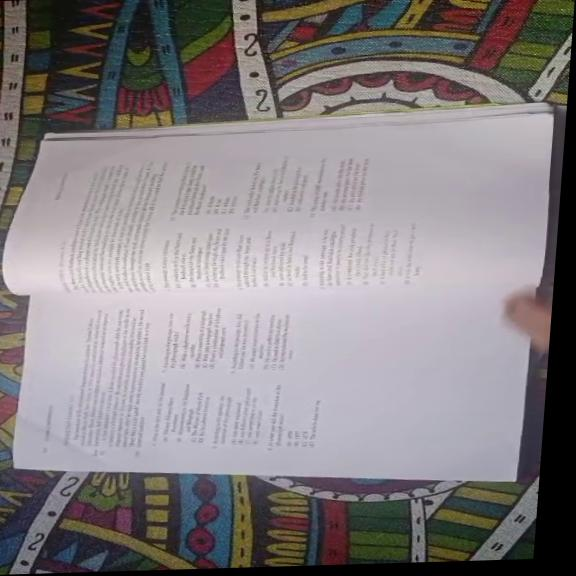Kertas: (31, 119, 558, 295), (13, 279, 502, 468)
